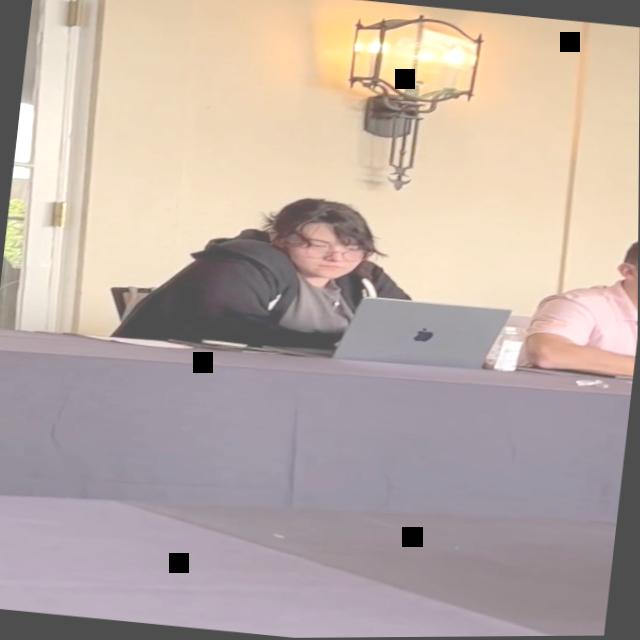NO-Mask: (287, 216, 372, 286), (632, 247, 639, 308)
